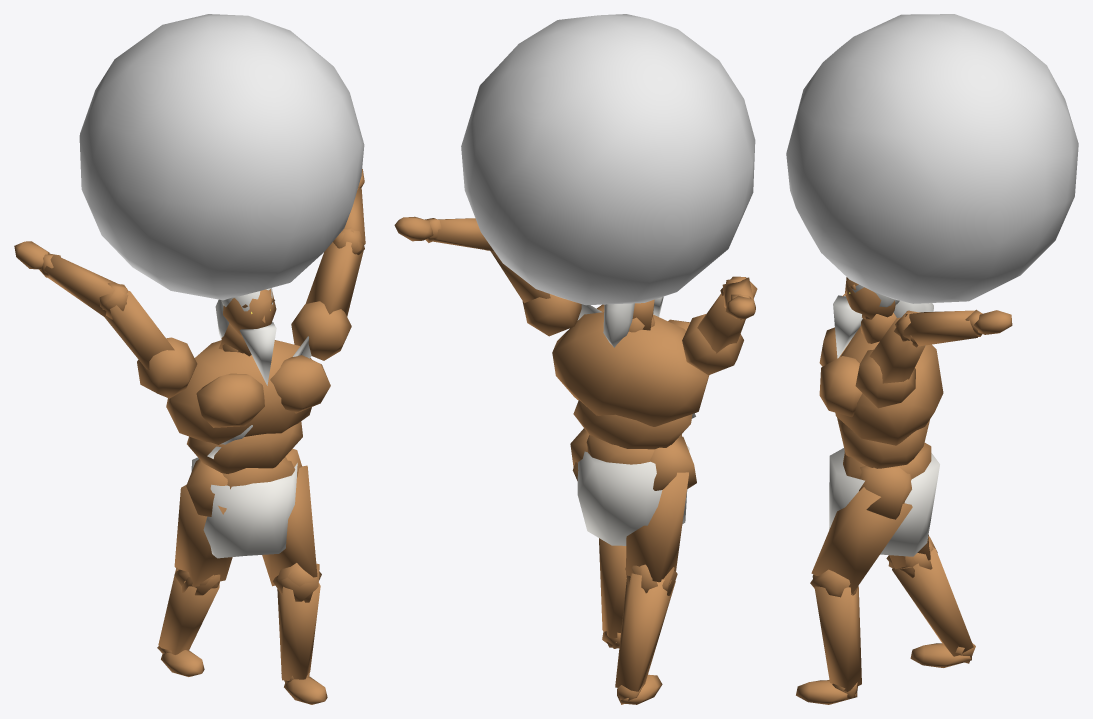
The model's file is atlas_lod.glb.
The picture shows the model from 3 angles, left to right: view 1: azimuth 30°, elevation 25°; view 2: azimuth 150°, elevation 25°; view 3: azimuth 270°, elevation 25°; orthographic projection. The views are drawn at different scales.
Visible parts, largest first — view 1: torso, pelvis, upperarm_L, upperarm_R, thigh_R, shin_L, thigh_L, head, shin_R, forearm_R, forearm_L, foot_L (+2 smaller); view 2: torso, pelvis, thigh_R, shin_R, upperarm_R, upperarm_L, shin_L, forearm_L, head, hand_L, forearm_R, hand_R; view 3: torso, thigh_L, pelvis, shin_L, shin_R, upperarm_L, head, forearm_L, foot_R, foot_L, hand_L, thigh_R.
Part boxes in pixels (bbox=[...]): torso: bbox=[79, 14, 364, 473]; pelvis: bbox=[191, 456, 297, 558]; upperarm_L: bbox=[291, 227, 363, 360]; upperarm_R: bbox=[99, 283, 197, 398]; thigh_R: bbox=[174, 459, 232, 592]; shin_L: bbox=[273, 563, 320, 683]; thigh_L: bbox=[262, 448, 321, 602]; head: bbox=[215, 288, 276, 385]; shin_R: bbox=[157, 567, 220, 654]; forearm_R: bbox=[39, 253, 127, 316]; forearm_L: bbox=[333, 187, 365, 254]; foot_L: bbox=[284, 676, 327, 704]; torso: bbox=[461, 14, 755, 449]; pelvis: bbox=[577, 434, 689, 545]; thigh_R: bbox=[626, 436, 696, 595]; shin_R: bbox=[615, 564, 675, 704]; upperarm_R: bbox=[682, 277, 757, 375]; upperarm_L: bbox=[490, 251, 581, 336]; shin_L: bbox=[599, 538, 626, 648]; forearm_L: bbox=[425, 218, 493, 251]; head: bbox=[603, 296, 663, 347]; hand_L: bbox=[394, 216, 433, 241]; forearm_R: bbox=[720, 276, 756, 319]; hand_R: bbox=[725, 295, 755, 319]; torso: bbox=[786, 14, 1078, 468]; thigh_L: bbox=[811, 466, 912, 597]; pelvis: bbox=[829, 443, 939, 556]; shin_L: bbox=[810, 569, 861, 700]; shin_R: bbox=[886, 536, 975, 663]; upperarm_L: bbox=[855, 311, 925, 408]; head: bbox=[833, 277, 933, 358]; forearm_L: bbox=[895, 309, 982, 346]; foot_R: bbox=[910, 643, 971, 667]; foot_L: bbox=[796, 680, 857, 704]; hand_L: bbox=[974, 310, 1012, 334]; thigh_R: bbox=[888, 535, 933, 574].
Bounding box in the file's own units: 7.56 × 13.42 × 5.4.
